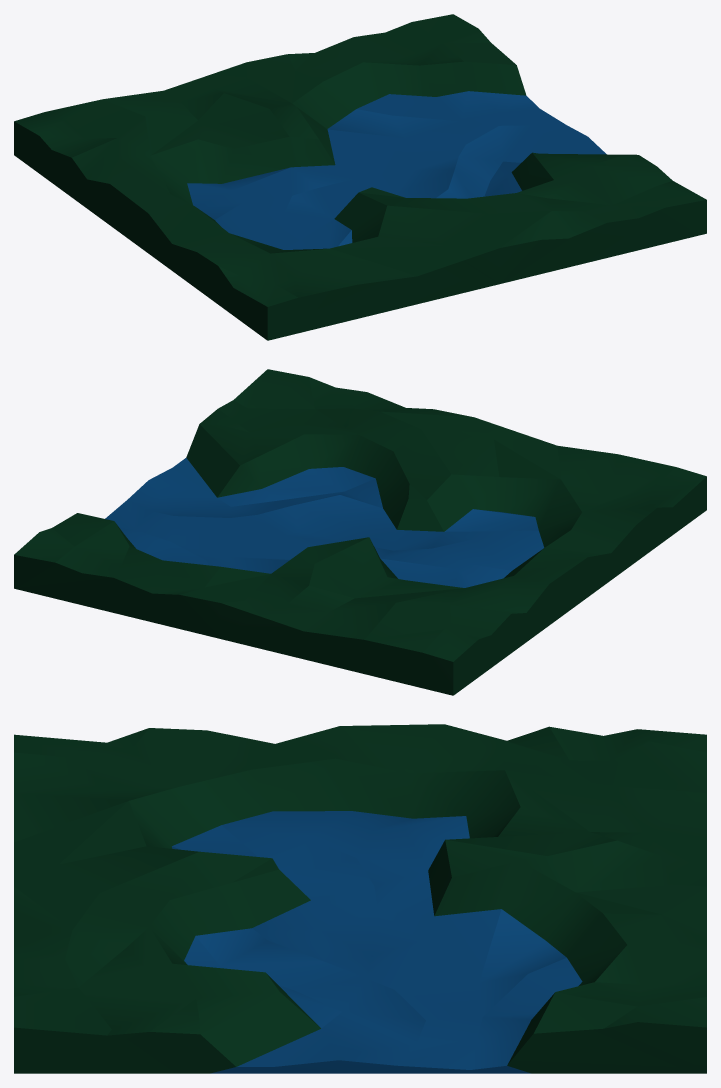
Rendered from Water_River_Ending_L.fbx.
The picture shows the model from 3 angles, top to bottom: view 1: azimuth 30°, elevation 25°; view 2: azimuth 150°, elevation 25°; view 3: azimuth 270°, elevation 25°; orthographic projection. The views are drawn at different scales.
Parts seen in each view (by area): view 1: Water_River_Ending_L; view 2: Water_River_Ending_L; view 3: Water_River_Ending_L.
Part boxes in pixels (x1,y1,x2,y2): Water_River_Ending_L: (14,14,706,340); Water_River_Ending_L: (14,369,706,695); Water_River_Ending_L: (14,724,706,1073).
Bounding box in the file's own units: 147 × 14.69 × 147.
